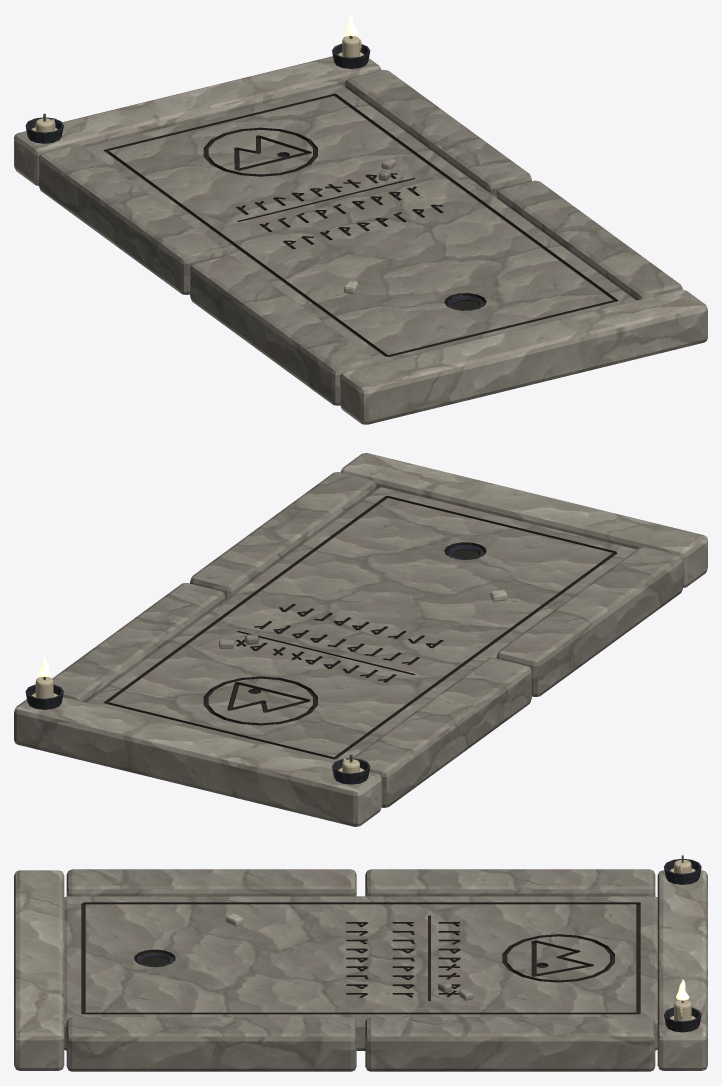
Rendered from qb_floor_slab.glb.
3 views of the same model, one above another, from view 1: azimuth 30°, elevation 25°; view 2: azimuth 150°, elevation 25°; view 3: azimuth 270°, elevation 25° (orthographic).
Visible parts, largest first — view 1: model; view 2: model; view 3: model.
Boxes of the visible parts, box(x1,y1,x2,y2) form: model: box(14, 14, 707, 424); model: box(14, 453, 707, 826); model: box(14, 855, 707, 1071).
Bounding box in the file's own units: 0.95 × 0.223 × 1.65.
8 materials, 4 textured.
